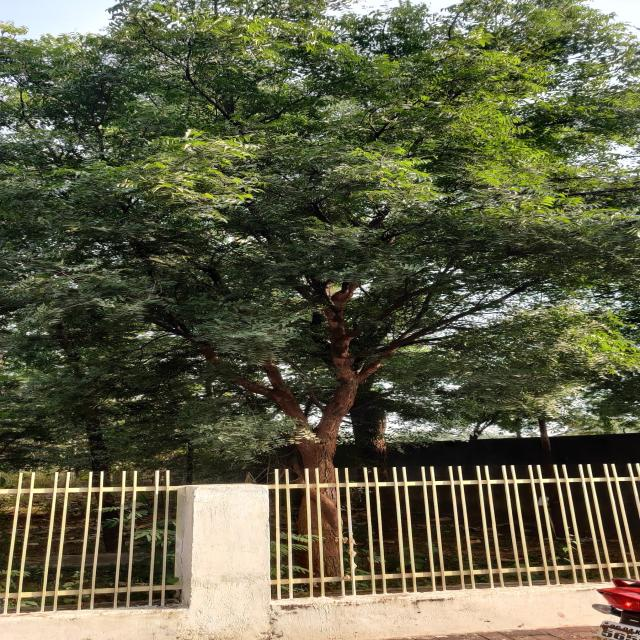Neem Tree: (85, 9, 557, 334)
